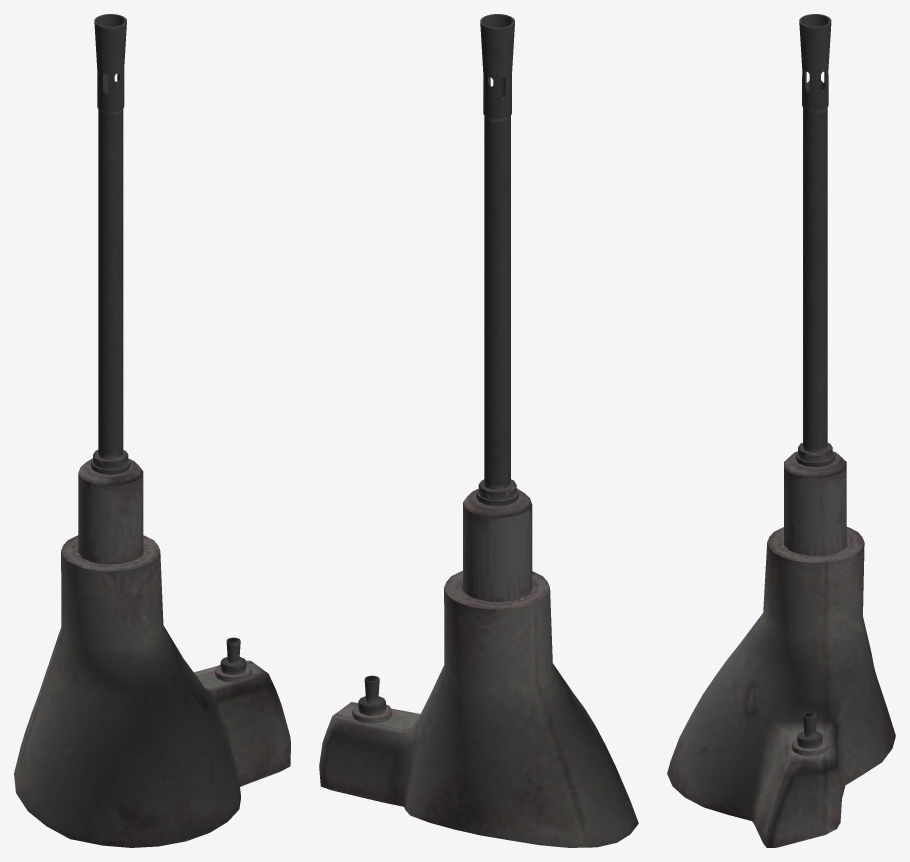
File: Gun_05.glb
3 views of the same model, side by side, from view 1: azimuth 30°, elevation 25°; view 2: azimuth 150°, elevation 25°; view 3: azimuth 270°, elevation 25° (orthographic). The views are drawn at different scales.
Parts seen in each view (by area): view 1: set_0_group_0; view 2: set_0_group_0; view 3: set_0_group_0.
Part boxes in pixels (<box>): set_0_group_0: <box>14,14,290,847</box>; set_0_group_0: <box>319,14,638,847</box>; set_0_group_0: <box>667,14,895,847</box>.
Bounding box in the file's own units: 0.6292 × 1.78 × 0.4893.
Materials: 1 (1 with a texture image).
